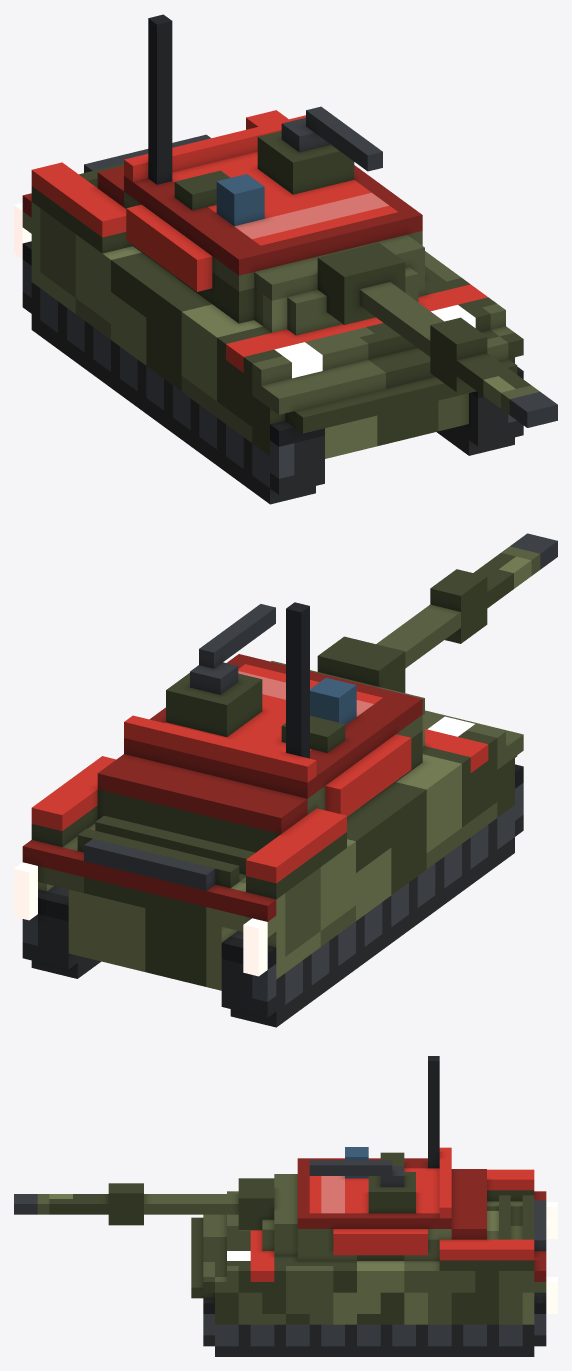
The model's file is cm_tank_0.glb.
3 renders of one model, top to bottom at view 1: azimuth 30°, elevation 25°; view 2: azimuth 150°, elevation 25°; view 3: azimuth 270°, elevation 25°, orthographic. The views are drawn at different scales.
Parts seen in each view (by area): view 1: cm_tank_0_body; view 2: cm_tank_0_body; view 3: cm_tank_0_body.
Boxes of the visible parts, bbox=[...] form: cm_tank_0_body: bbox=[14, 14, 557, 504]; cm_tank_0_body: bbox=[14, 533, 557, 1027]; cm_tank_0_body: bbox=[14, 1056, 557, 1356].
Bounding box in the file's own units: 1 × 1.38 × 2.88.
1 material, 1 textured.
